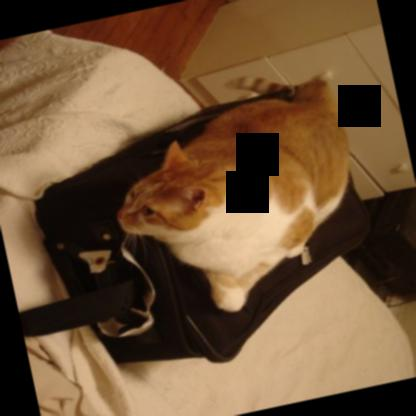suitcase: (18, 89, 378, 366)
